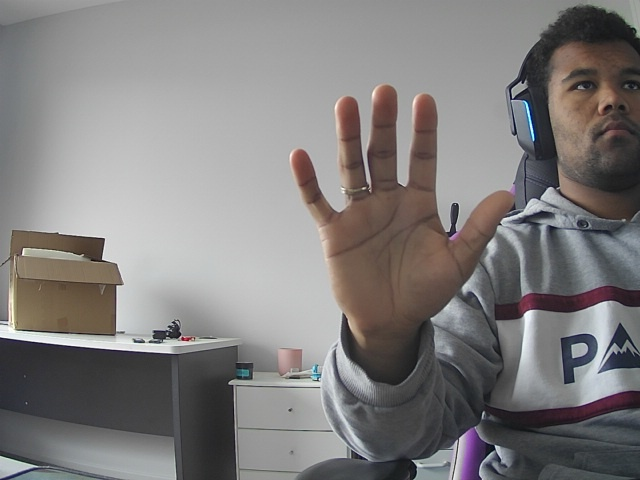Hello: (274, 76, 517, 341)
